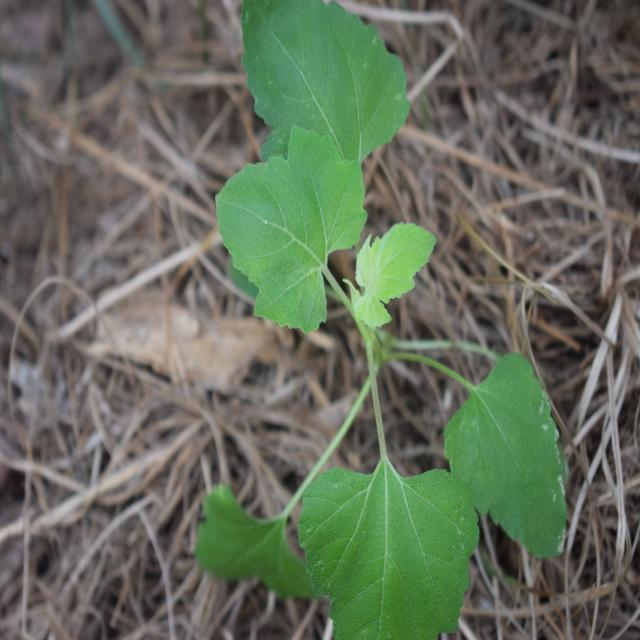cocklebur: (214, 8, 574, 609)
